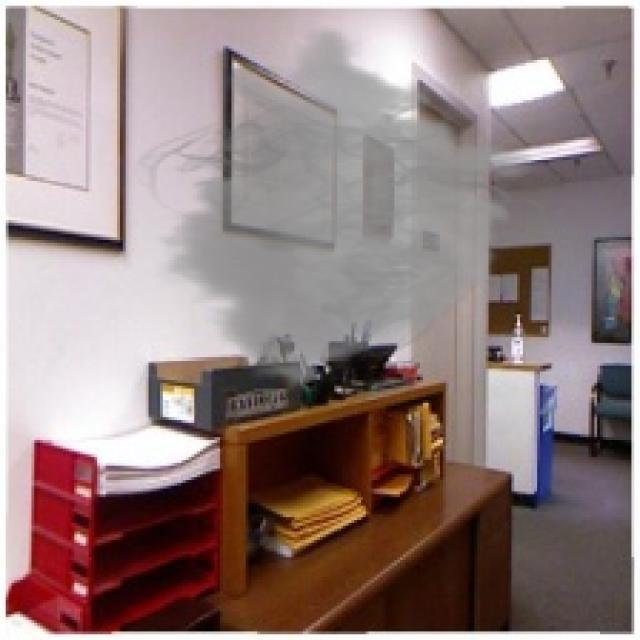Smoke: (128, 26, 552, 388)
